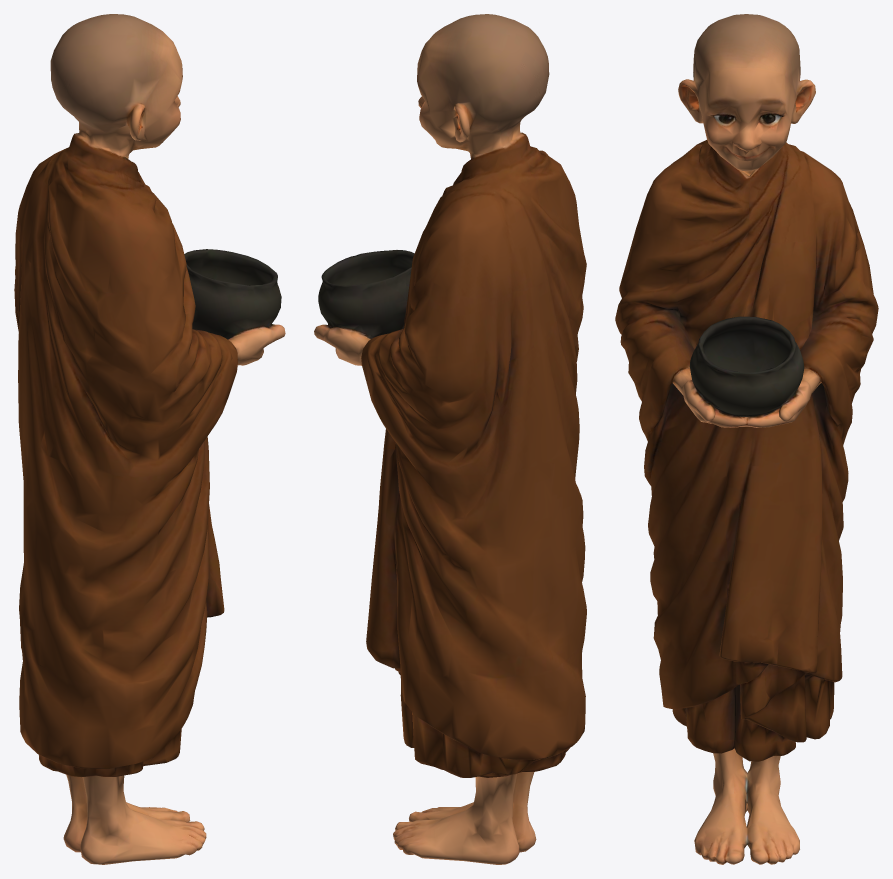
Rendered from alms-novice.glb.
The picture shows the model from 3 angles, left to right: view 1: azimuth 30°, elevation 25°; view 2: azimuth 150°, elevation 25°; view 3: azimuth 270°, elevation 25°; orthographic projection. The views are drawn at different scales.
Parts seen in each view (by area): view 1: tripo_node_9ed6e37f-ccfa-4fd4-9915-0dc3862f2232; view 2: tripo_node_9ed6e37f-ccfa-4fd4-9915-0dc3862f2232; view 3: tripo_node_9ed6e37f-ccfa-4fd4-9915-0dc3862f2232.
Part boxes in pixels (left/top/right/bottom): tripo_node_9ed6e37f-ccfa-4fd4-9915-0dc3862f2232: left=14, top=14, right=285, bottom=864; tripo_node_9ed6e37f-ccfa-4fd4-9915-0dc3862f2232: left=314, top=14, right=586, bottom=864; tripo_node_9ed6e37f-ccfa-4fd4-9915-0dc3862f2232: left=615, top=14, right=878, bottom=864.
Size of the model in its own units: 0.3067 by 0.9997 by 0.2944.
1 material, 1 textured.
